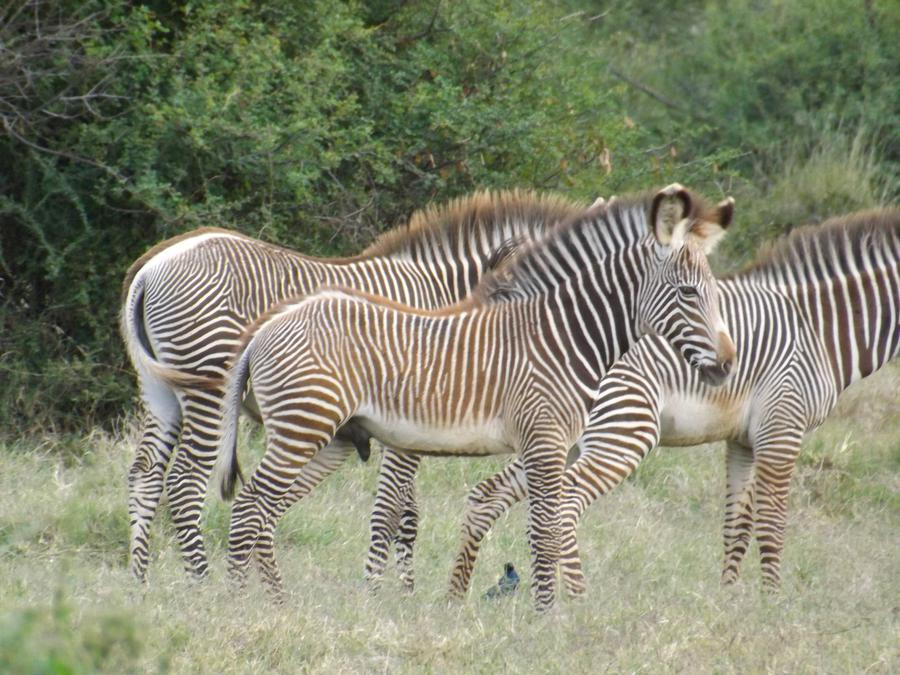zebra_grevys: (241, 275, 575, 446)
